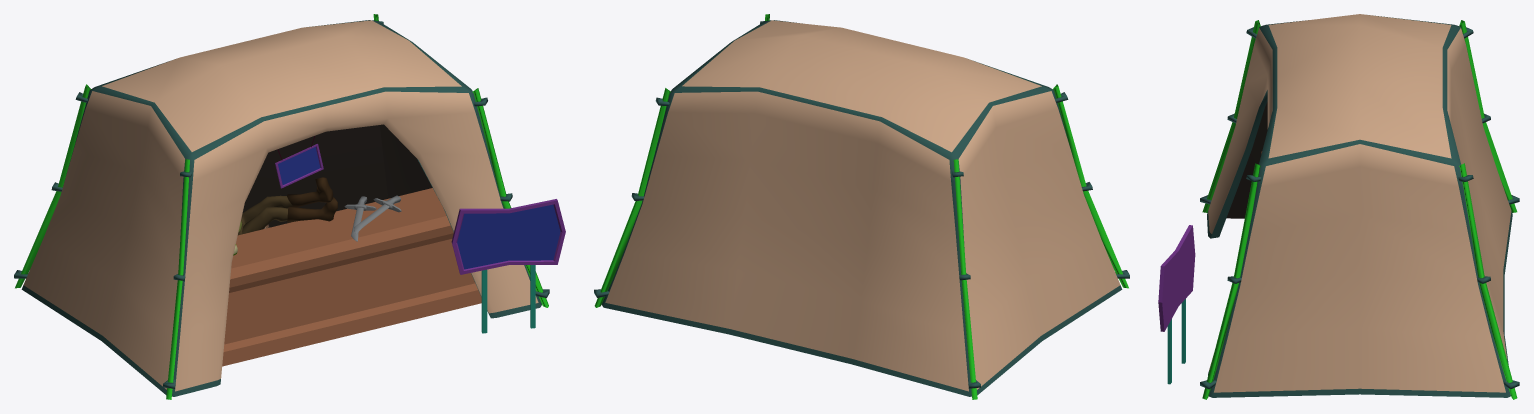
File: Tent.fbx
3 views of the same model, side by side, from view 1: azimuth 30°, elevation 25°; view 2: azimuth 150°, elevation 25°; view 3: azimuth 270°, elevation 25° (orthographic).
Visible parts, largest first — view 1: shop_tent, shopkeeper_posed; view 2: shop_tent; view 3: shop_tent.
Boxes of the visible parts, x1,y1,x2,y2 form: shop_tent: (14,14,565,399); shopkeeper_posed: (238,177,337,235); shop_tent: (594,14,1129,399); shop_tent: (1158,14,1519,399).
Bounding box in the file's own units: 340 × 207 × 272.
